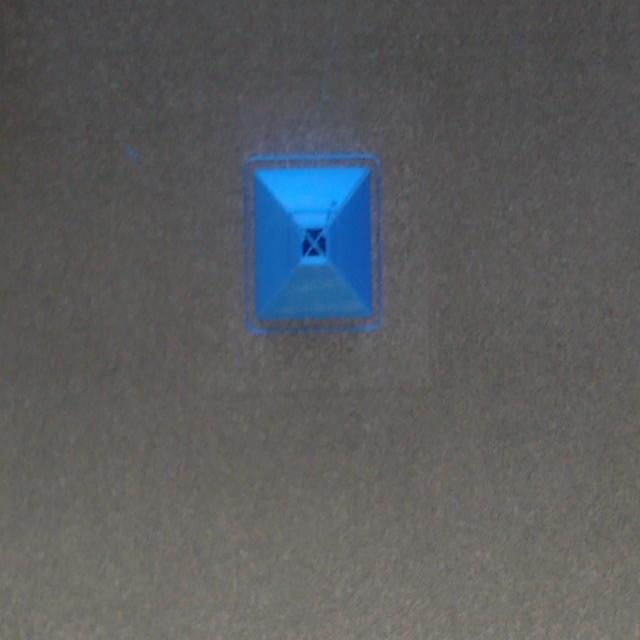mistake: (300, 228, 329, 263)
